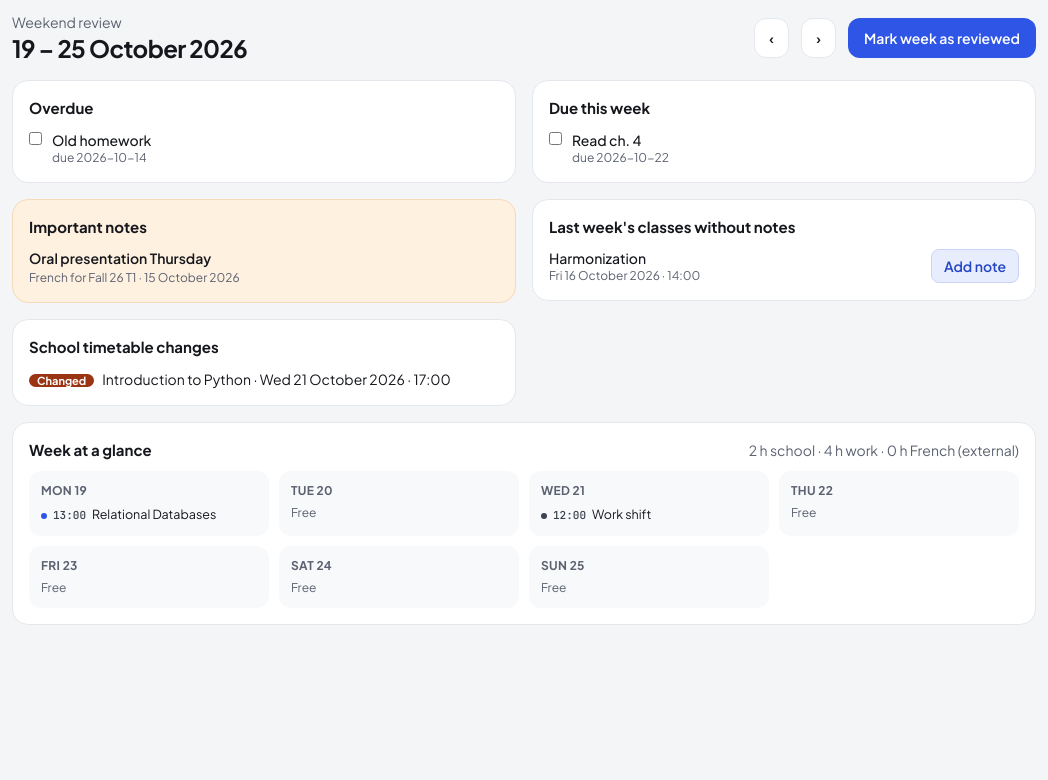
Test: ReviewPage › keeps week navigation when the next week fails to load
Click the button named "Next week" at coordinates (819, 38), box 801,18 -> 836,58
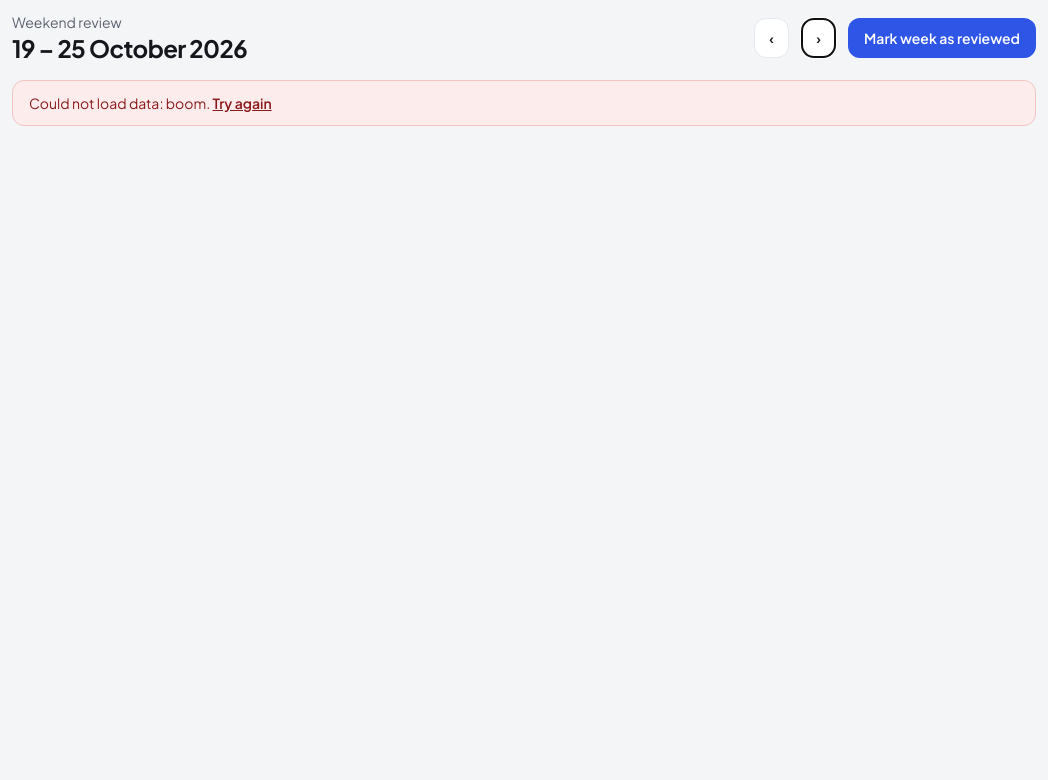
Check: the button named "Previous week" is shown, box 754,18 -> 789,58
Check: the text "Could not load data: boom. Try again" is shown, box 12,80 -> 1036,126
